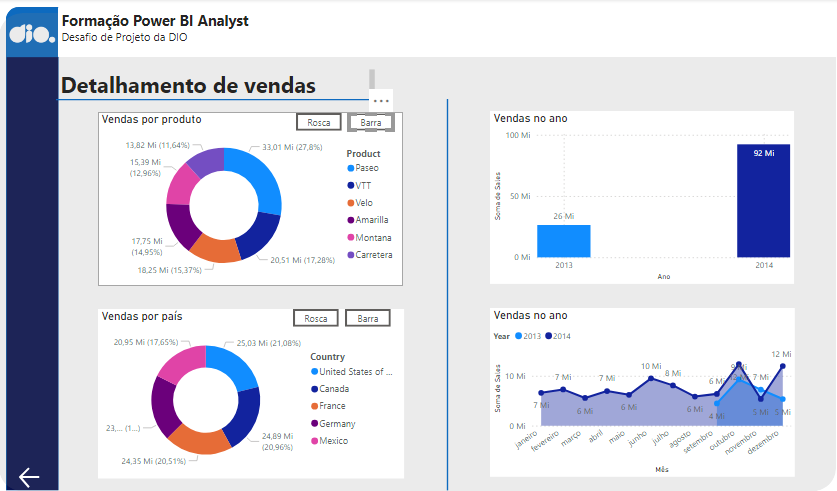

What the dashboard file says about the page in this screenshot:
{"tool":"powerbi","page":{"name":"Página 3","canvas":[1280,720],"ordinal":2},"visuals":[{"type":"shape","box":[10.1,13.4,77.2,706.3],"z":0},{"type":"shape","box":[83.9,127.8,473,37.1],"z":0,"group":"g1"},{"type":"shape","box":[10,11.8,77.3,73.6],"z":1000},{"type":"textbox","box":[85.3,97.6,470.2,52.2],"z":1000,"group":"g1"},{"type":"image","title":"logo_dio","box":[10.1,18.5,77.2,62.1],"z":2000},{"type":"shape","box":[0,20,1225,700],"z":3000},{"type":"shape","title":"Fundo do Título","box":[86.7,11.7,1193.3,73.3],"z":4000},{"type":"textbox","box":[86.7,11.7,325,66.7],"z":5000},{"type":"actionButton","box":[25,680,61.7,40],"z":6000},{"type":"group","id":"g1","title":"Sales report","box":[83.9,97.6,473,67.4],"z":7000},{"type":"shape","box":[506.7,146.7,300,573.3],"z":8000},{"type":"lineChart","title":"Vendas no ano","fields":{"Category":["financials.Date.Variation.Hierarquia de datas.Ano","financials.Date.Variation.Hierarquia de datas.Trimestre","financials.Date.Variation.Hierarquia de datas.Mês","financials.Date.Variation.Hierarquia de datas.Dia"],"Y":["Sum(financials. Sales)"],"Series":["financials.Year"]},"box":[718.5,452.2,446.3,247.3],"z":11000},{"type":"columnChart","title":"Vendas no ano","fields":{"Category":["financials.Date.Variation.Hierarquia de datas.Ano","financials.Date.Variation.Hierarquia de datas.Trimestre","financials.Date.Variation.Hierarquia de datas.Mês","financials.Date.Variation.Hierarquia de datas.Dia"],"Y":["Sum(financials. Sales)"]},"box":[718.5,163.9,444.9,253.2],"z":12000},{"type":"group","id":"g2","title":"Grupo vendas por país","box":[145,451.7,448.3,248.3],"z":12500},{"type":"group","id":"g3","title":"Grupo vendas por produto","box":[145.6,165.6,445.9,254.4],"z":13000},{"type":"columnChart","title":"Vendas por produto","fields":{"Y":["Sum(financials. Sales)"],"Category":["financials.Product"]},"box":[145.6,165.6,444.4,254.4],"z":13250,"group":"g3"},{"type":"actionButton","title":"Botão rosca produtos","box":[435,167,67,26],"z":13500,"group":"g3"},{"type":"actionButton","title":"Botão barra produto","box":[512,167,67,26],"z":13750,"group":"g3"},{"type":"columnChart","title":"Vendas por país","fields":{"Category":["financials.Country"],"Y":["Sum(financials. Sales)"]},"box":[145,451.7,448.3,246.7],"z":14500,"group":"g2"},{"type":"actionButton","title":"Botão rosca país","box":[430,453,67,26],"z":15000,"group":"g2"},{"type":"actionButton","title":"Botão barra país","box":[507,453,67,26],"z":16000,"group":"g2"}]}

Visuals, with their boxes on the page's 1280x720 design canvas (x1, y1, x2, y2). These are canvas units, not pixel positions in the 837x491 screenshot, which may show the page scaled, cropped or inside an application window:
shape: (left=10, top=13, right=87, bottom=720)
shape: (left=84, top=128, right=557, bottom=165)
shape: (left=10, top=12, right=87, bottom=85)
textbox: (left=85, top=98, right=556, bottom=150)
"logo_dio" image: (left=10, top=18, right=87, bottom=81)
shape: (left=0, top=20, right=1225, bottom=720)
"Fundo do Título" shape: (left=87, top=12, right=1280, bottom=85)
textbox: (left=87, top=12, right=412, bottom=78)
actionButton: (left=25, top=680, right=87, bottom=720)
"Sales report" group: (left=84, top=98, right=557, bottom=165)
shape: (left=507, top=147, right=807, bottom=720)
"Vendas no ano" lineChart: (left=718, top=452, right=1165, bottom=700)
"Vendas no ano" columnChart: (left=718, top=164, right=1163, bottom=417)
"Grupo vendas por país" group: (left=145, top=452, right=593, bottom=700)
"Grupo vendas por produto" group: (left=146, top=166, right=592, bottom=420)
"Vendas por produto" columnChart: (left=146, top=166, right=590, bottom=420)
"Botão rosca produtos" actionButton: (left=435, top=167, right=502, bottom=193)
"Botão barra produto" actionButton: (left=512, top=167, right=579, bottom=193)
"Vendas por país" columnChart: (left=145, top=452, right=593, bottom=698)
"Botão rosca país" actionButton: (left=430, top=453, right=497, bottom=479)
"Botão barra país" actionButton: (left=507, top=453, right=574, bottom=479)
